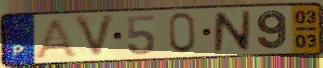0: (166, 11, 198, 56)
5: (125, 13, 157, 57)
9: (254, 8, 289, 52)
A: (32, 17, 80, 59)
N: (211, 9, 253, 54)
V: (72, 12, 119, 61)
